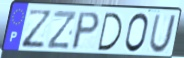D: (96, 11, 123, 52)
O: (124, 12, 150, 54)
P: (70, 11, 102, 51)
U: (147, 14, 178, 55)
Z: (20, 8, 54, 50), (46, 9, 78, 50)
